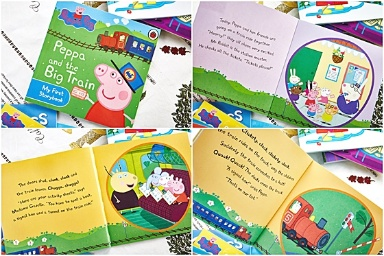Peppa: (83, 63, 137, 126)
